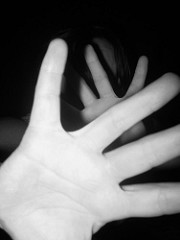palm: (12, 139, 112, 239)
